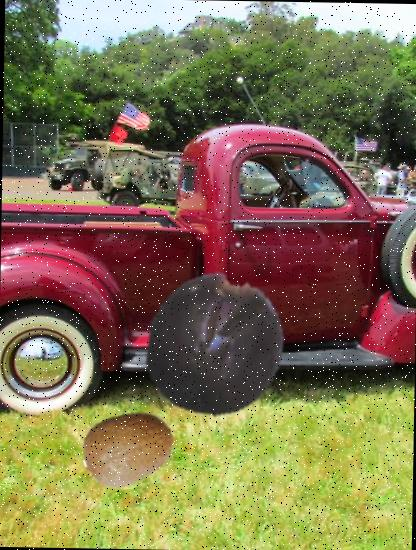Kiwi: (80, 400, 176, 496)
Passion: (140, 268, 290, 417)
